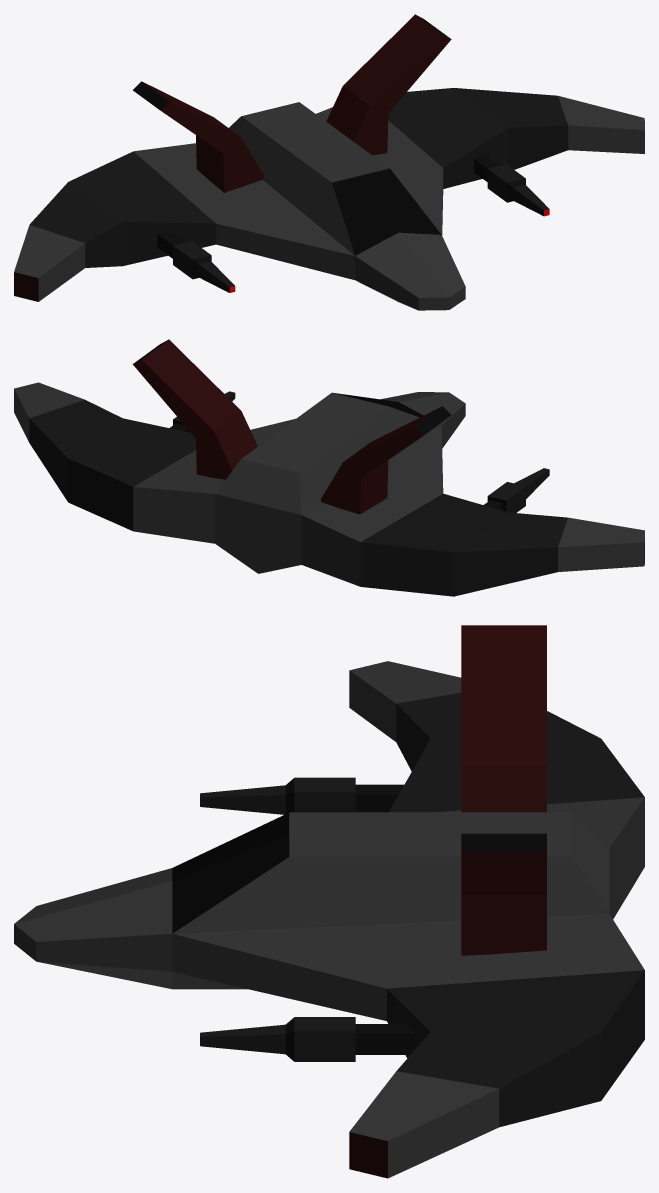
File: Starship_1.fbx
3 views of the same model, one above another, from view 1: azimuth 30°, elevation 25°; view 2: azimuth 150°, elevation 25°; view 3: azimuth 270°, elevation 25° (orthographic). The views are drawn at different scales.
Parts seen in each view (by area): view 1: StarShip1; view 2: StarShip1; view 3: StarShip1.
Part boxes in pixels (box(x1,y1,x2,y2)): StarShip1: box(14, 14, 644, 310); StarShip1: box(14, 339, 644, 596); StarShip1: box(14, 625, 644, 1178).
Bounding box in the file's own units: 13.23 × 3.34 × 7.35.
